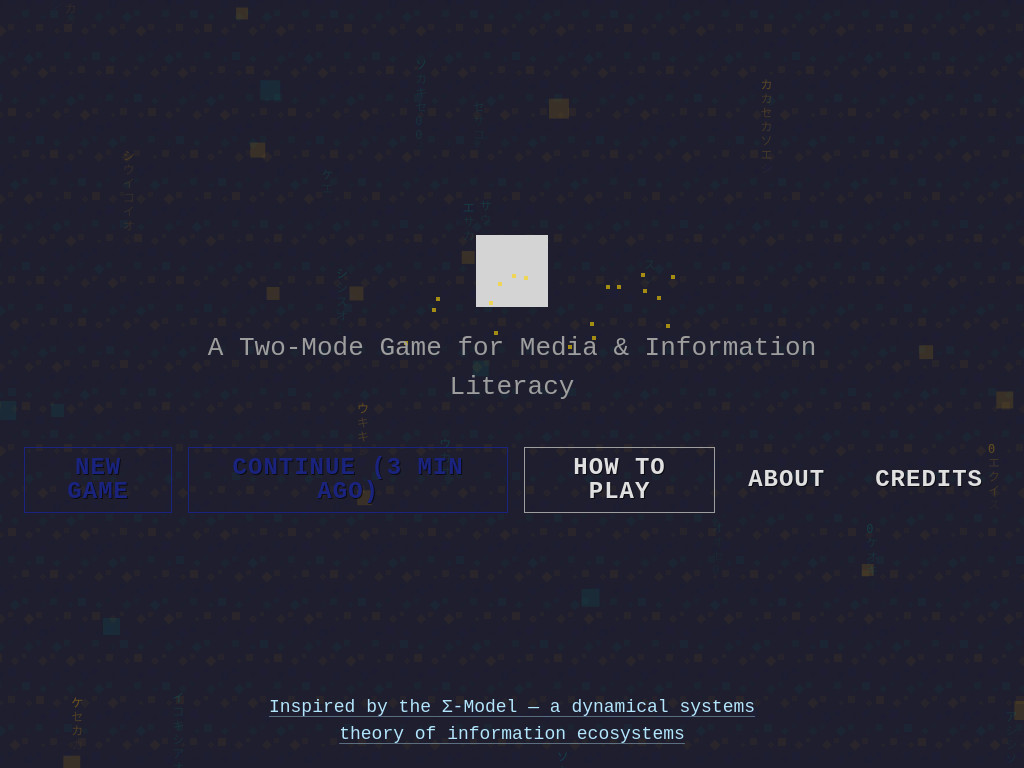
Scenario: TitleScreen › shows New Game confirmation modal when save exists and New Game clicked
The width and height of the screenshot is (1024, 768).
Click the button "New Game": click(98, 480) left=24, top=447, right=172, bottom=513
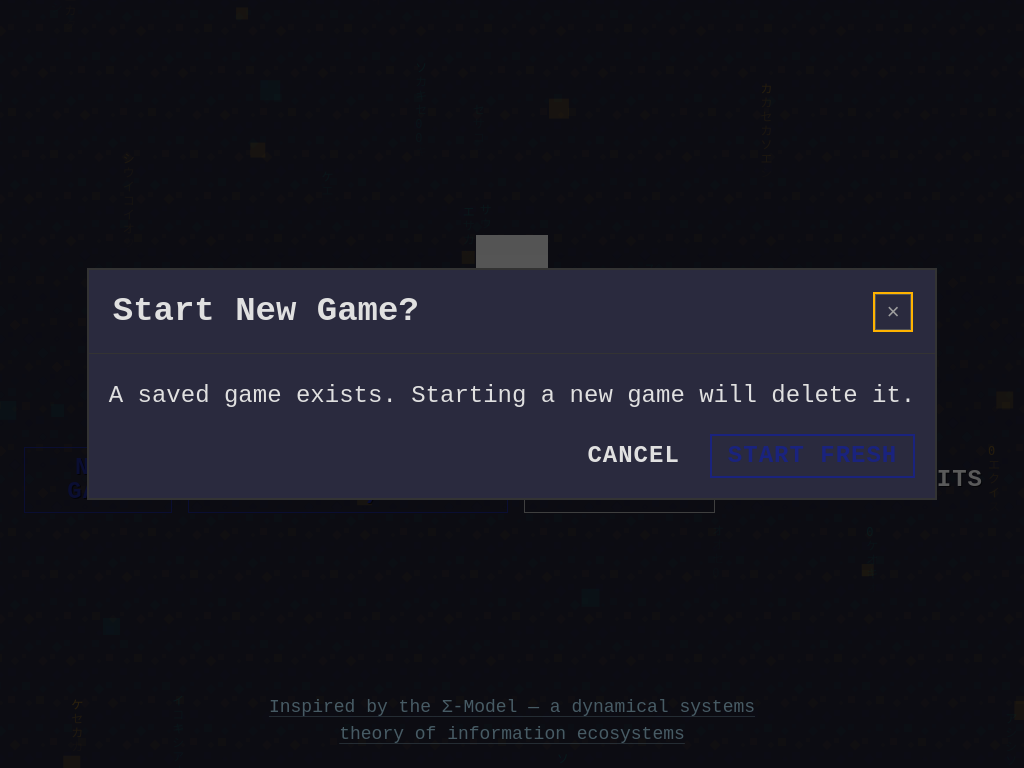
Check: the heading "Start New Game?" is shown, box left=113, top=286, right=419, bottom=337
Check: the text "A saved game exists. Starting a new game will delete it." is shown, box left=109, top=374, right=915, bottom=418
